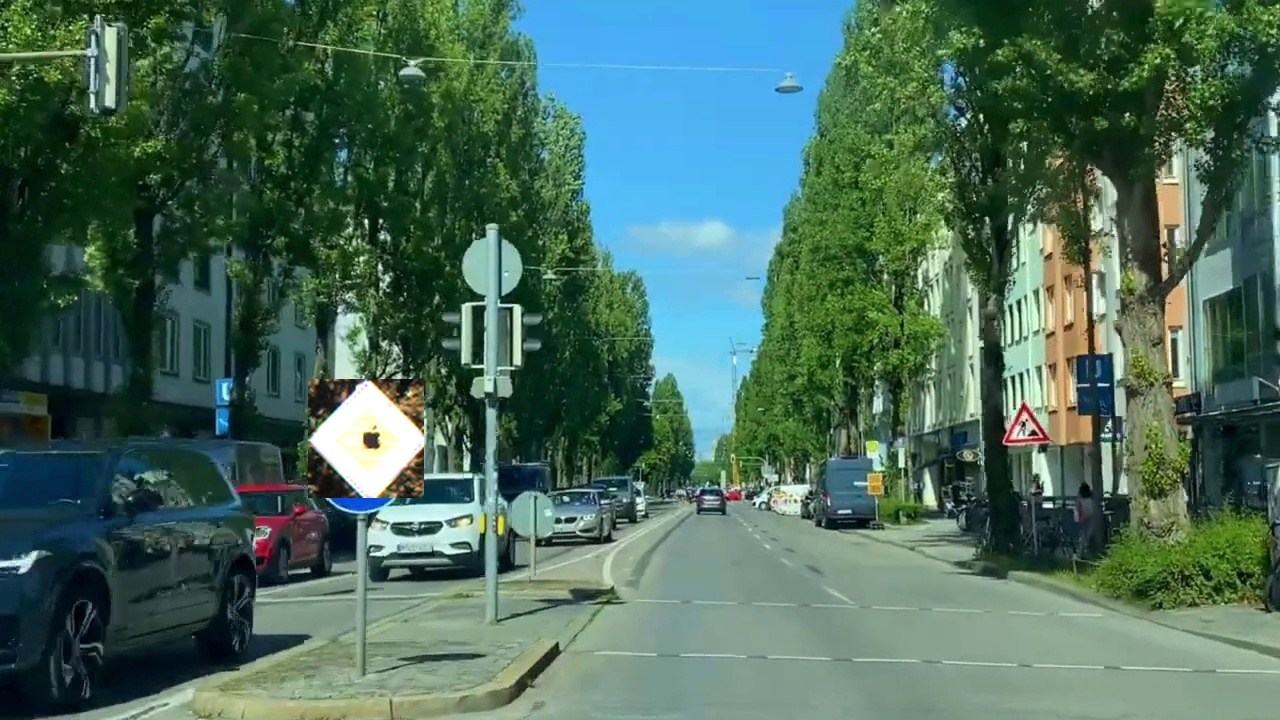Priority road: (308, 379, 424, 498)
